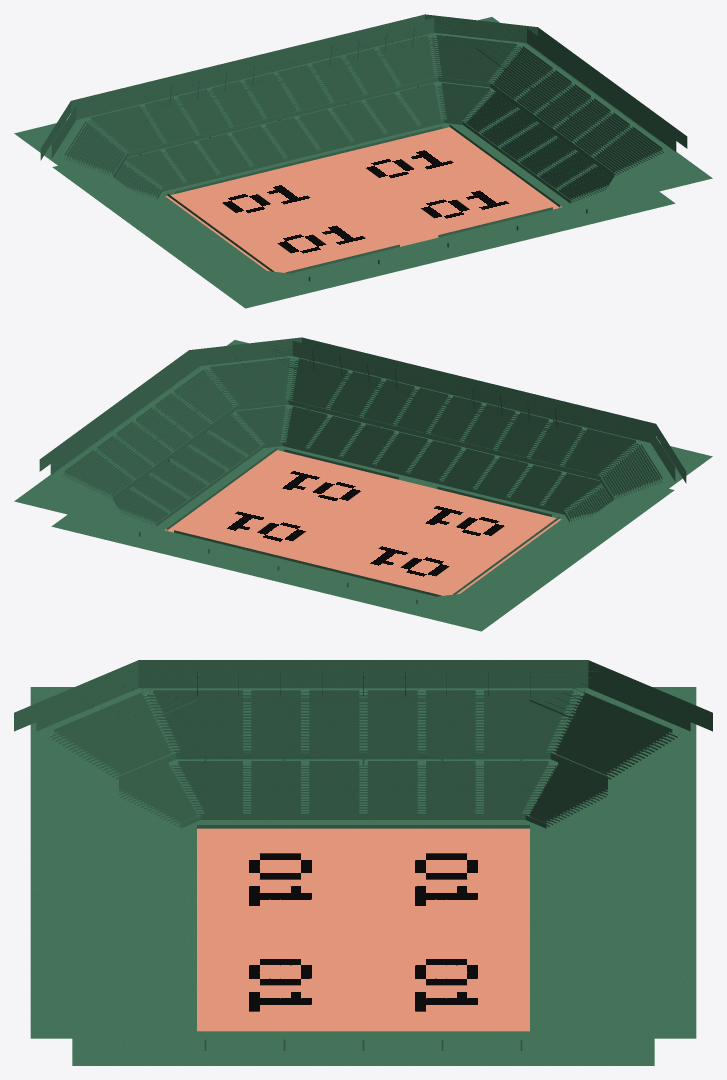
The picture shows the model from 3 angles, top to bottom: view 1: azimuth 30°, elevation 25°; view 2: azimuth 150°, elevation 25°; view 3: azimuth 270°, elevation 25°; orthographic projection. The views are drawn at different scales.
Parts seen in each view (by area): view 1: test stadium, pitch; view 2: test stadium, pitch; view 3: test stadium, pitch.
Part boxes in pixels (left/top/right/bottom): test stadium: left=14, top=14, right=712, bottom=308; pitch: left=165, top=127, right=561, bottom=272; test stadium: left=14, top=337, right=712, bottom=631; pitch: left=165, top=450, right=561, bottom=595; test stadium: left=14, top=660, right=712, bottom=1065; pitch: left=197, top=828, right=529, bottom=1031.
Size of the model in its own units: 208 by 39 by 168.
2 materials, 2 textured.
